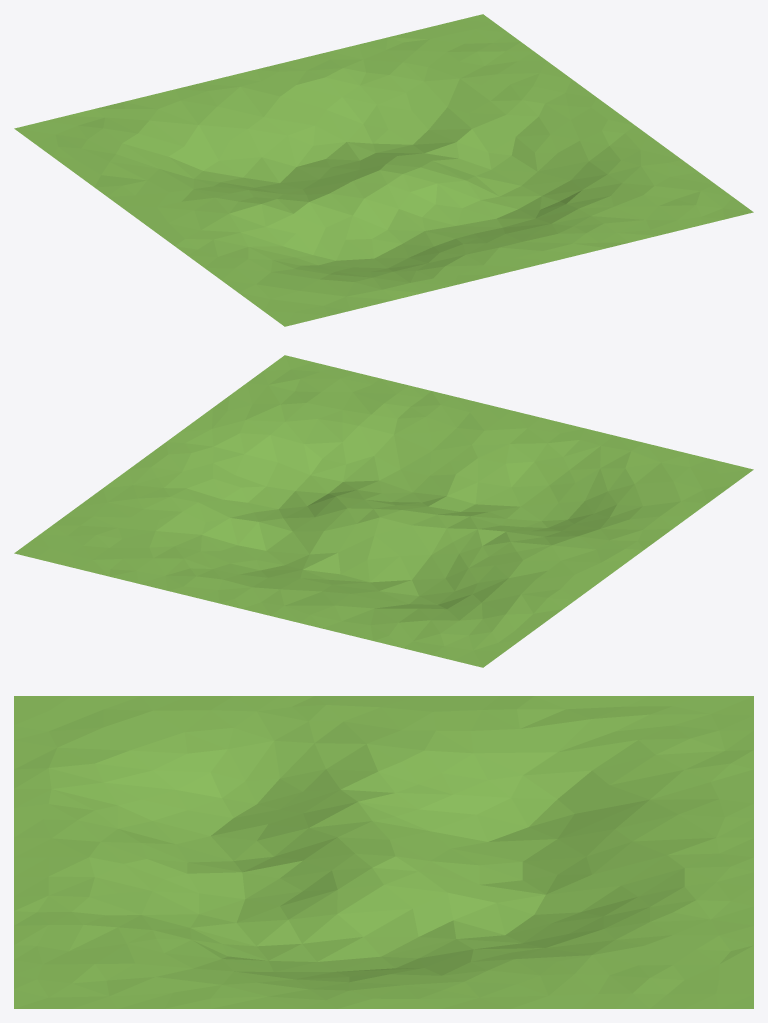
Rendered from MT_Terrain_M_b_09.fbx.
3 views of the same model, one above another, from view 1: azimuth 30°, elevation 25°; view 2: azimuth 150°, elevation 25°; view 3: azimuth 270°, elevation 25° (orthographic). The views are drawn at different scales.
Visible parts, largest first — view 1: MT_Terrain_M_b_09; view 2: MT_Terrain_M_b_09; view 3: MT_Terrain_M_b_09.
Boxes of the visible parts, x1,y1,x2,y2 form: MT_Terrain_M_b_09: (14,14,753,326); MT_Terrain_M_b_09: (14,355,753,667); MT_Terrain_M_b_09: (14,696,753,1008).
Bounding box in the file's own units: 5000 × 276 × 5000.
